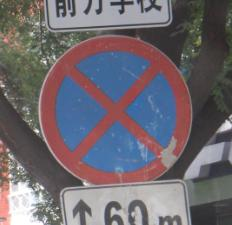No Parking: (41, 36, 193, 191)
